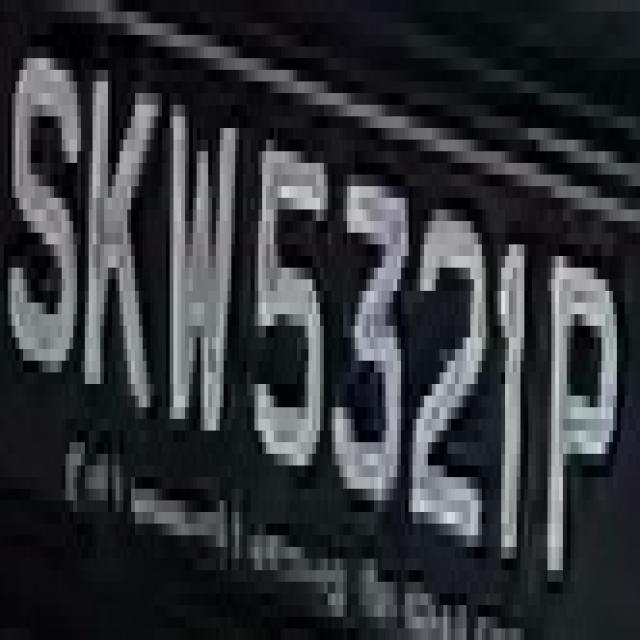1: (486, 198, 536, 570)
2: (408, 163, 486, 570)
3: (335, 152, 409, 500)
5: (250, 116, 324, 512)
K: (85, 46, 146, 419)
P: (532, 210, 617, 605)
S: (11, 47, 85, 396)
W: (146, 70, 243, 454)
